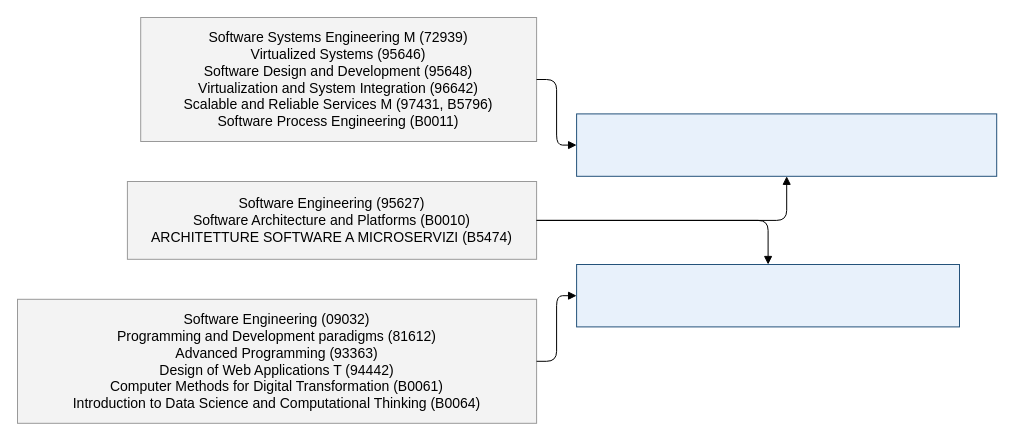
Some shapes in this 1015 by 441 pixel diagram are drawn without their labels. The shapes that lost their labels are listed below. From the top down, each one's centre as x and y in pixels, then its label:
At (x=786, y=144): "Software Architecture Lifecycle Advanced Practices 3 ECTS".
At (x=768, y=295): "Software Architecture Lifecycle Fundamentals 3 ECTS".
